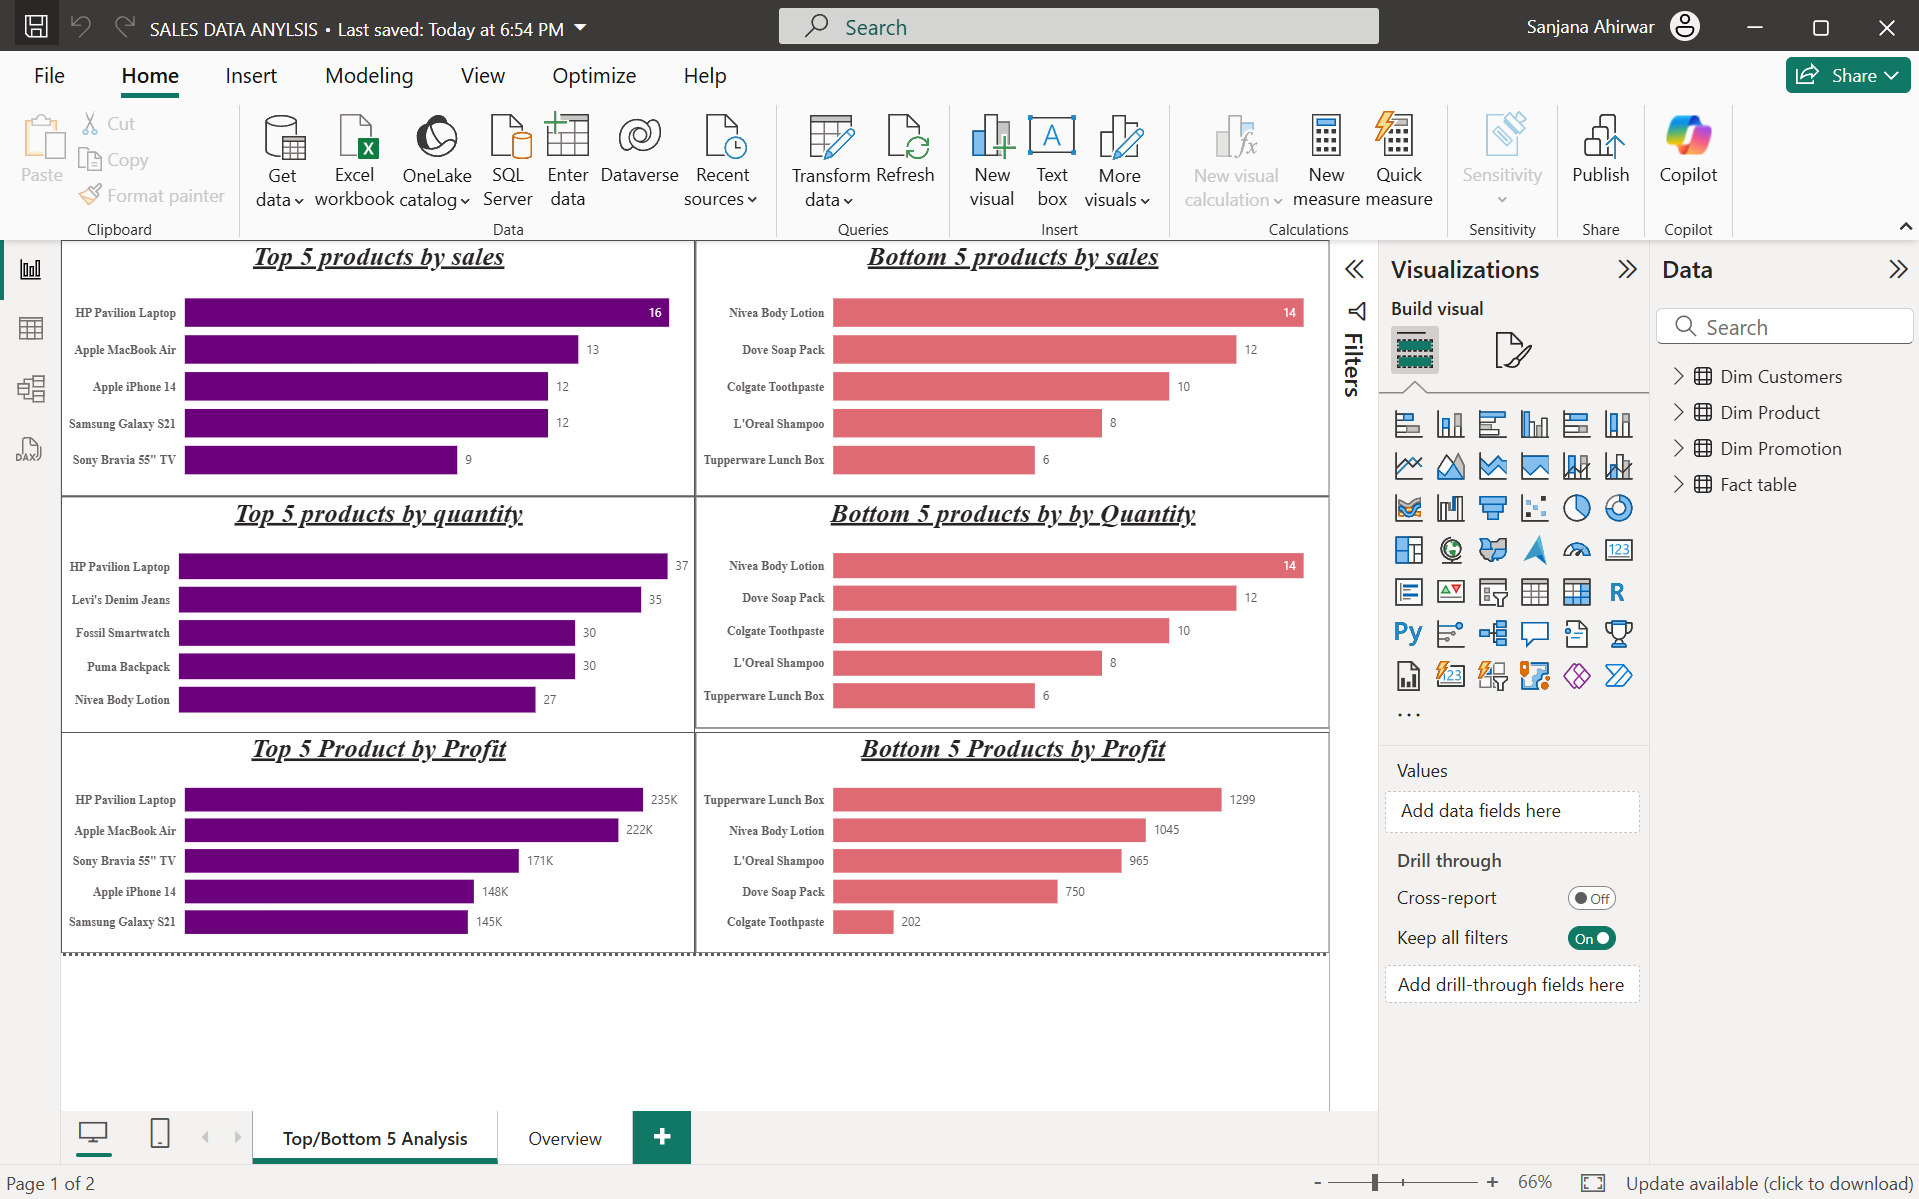

The page's visual inventory and layout, read from the dashboard file:
{"tool":"powerbi","page":{"name":"Top/Bottom 5 Analysis","canvas":[1280,720],"ordinal":0},"visuals":[{"type":"barChart","title":"Top 5 products by sales","fields":{"Category":["Dim Product.Product Name"],"Y":["CountNonNull(Fact table.Net Sales  )"]},"box":[0,0,640,258.5],"z":0},{"type":"barChart","title":"Bottom 5 products by sales","fields":{"Category":["Dim Product.Product Name"],"Y":["CountNonNull(Fact table.Net Sales  )"]},"box":[640,0,640,258.5],"z":1000},{"type":"barChart","title":"Top 5 products by quantity","fields":{"Category":["Dim Product.Product Name"],"Y":["Sum(Fact table.Units Sold)"]},"box":[0,258.5,640,238.5],"z":2000},{"type":"barChart","title":"Bottom 5 products by by Quantity","fields":{"Category":["Dim Product.Product Name"],"Y":["CountNonNull(Fact table.Net Sales  )"]},"box":[640,258.5,640,233.8],"z":3000},{"type":"barChart","title":"Top 5 Product by Profit","fields":{"Category":["Dim Product.Product Name"],"Y":["Sum(Fact table.Profit)"]},"box":[0,496.9,640,223.1],"z":4000},{"type":"barChart","title":"Bottom 5 Products by Profit","fields":{"Category":["Dim Product.Product Name"],"Y":["Sum(Fact table.Profit)"]},"box":[640,496.9,640,223.1],"z":5000}]}

Visuals, with their boxes on the page's 1280x720 design canvas (x1, y1, x2, y2). These are canvas units, not pixel positions in the 1919x1199 screenshot, which may show the page scaled, cropped or inside an application window:
"Top 5 products by sales" barChart: {"left": 0, "top": 0, "right": 640, "bottom": 258}
"Bottom 5 products by sales" barChart: {"left": 640, "top": 0, "right": 1280, "bottom": 258}
"Top 5 products by quantity" barChart: {"left": 0, "top": 258, "right": 640, "bottom": 497}
"Bottom 5 products by by Quantity" barChart: {"left": 640, "top": 258, "right": 1280, "bottom": 492}
"Top 5 Product by Profit" barChart: {"left": 0, "top": 497, "right": 640, "bottom": 720}
"Bottom 5 Products by Profit" barChart: {"left": 640, "top": 497, "right": 1280, "bottom": 720}
